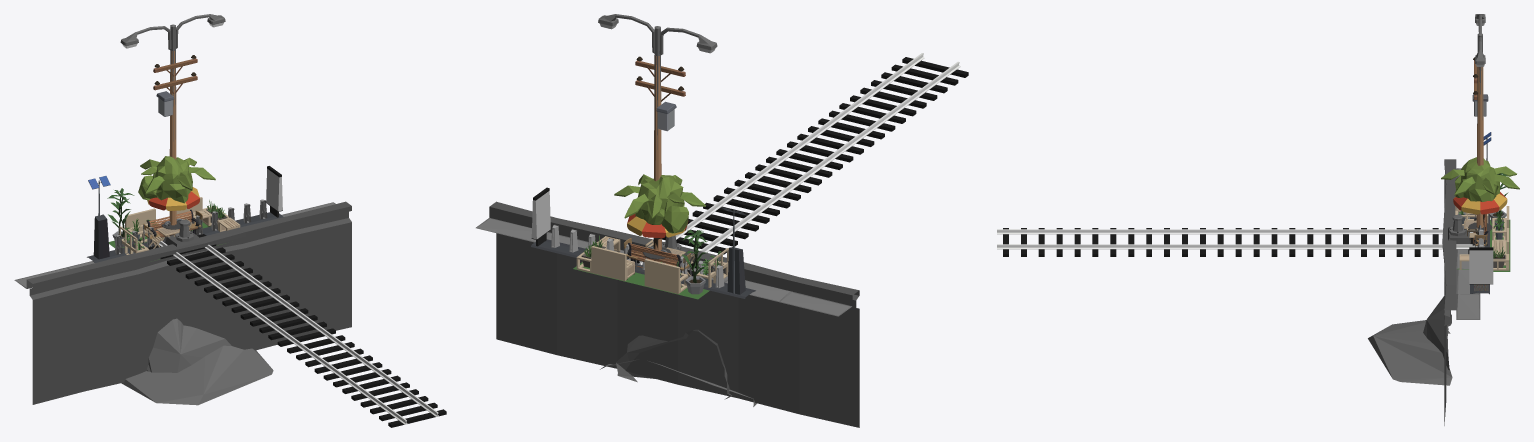
File: street-props.glb
The picture shows the model from 3 angles, left to right: view 1: azimuth 30°, elevation 25°; view 2: azimuth 150°, elevation 25°; view 3: azimuth 270°, elevation 25°; orthographic projection. The views are drawn at different scales.
Visible parts, largest first — view 1: sea_wall, track, bike_share, parklet, utility_pole, tree-01, outdoor_dining, palmtree, street-light, street-light-double; view 2: sea_wall, track, parklet, bike_share, utility_pole, tree-01, palmtree, outdoor_dining, street-light-double, street-light, park_bench; view 3: track, sea_wall, parklet, bike_share, tree-01, utility_pole, outdoor_dining, palmtree.
Part boxes in pixels (box(x1,y1,x2,y2)): sea_wall: box(14, 201, 351, 405); track: box(148, 231, 446, 427); bike_share: box(87, 166, 283, 262); parklet: box(107, 188, 240, 261); utility_pole: box(153, 51, 197, 225); tree-01: box(138, 156, 192, 224); outdoor_dining: box(143, 187, 202, 248); palmtree: box(140, 157, 215, 194); street-light: box(170, 14, 225, 141); street-light-double: box(120, 24, 175, 139); sea_wall: box(476, 201, 859, 427); track: box(634, 53, 968, 276); parklet: box(573, 230, 728, 299); bike_share: box(531, 187, 755, 298); utility_pole: box(635, 55, 685, 261); tree-01: box(635, 175, 688, 248); palmtree: box(614, 174, 705, 218); outdoor_dining: box(623, 213, 691, 275); street-light-double: box(654, 26, 717, 149); street-light: box(598, 14, 660, 141); park_bench: box(628, 243, 681, 277); track: box(997, 228, 1477, 256); sea_wall: box(1368, 159, 1480, 425); parklet: box(1455, 173, 1510, 271); bike_share: box(1469, 132, 1493, 294); tree-01: box(1455, 157, 1499, 234); utility_pole: box(1472, 57, 1488, 233); outdoor_dining: box(1453, 192, 1507, 247); palmtree: box(1441, 160, 1519, 195).
Bounding box in the file's own units: 15 × 15.11 × 21.91.
Materials: 1 (1 with a texture image).
